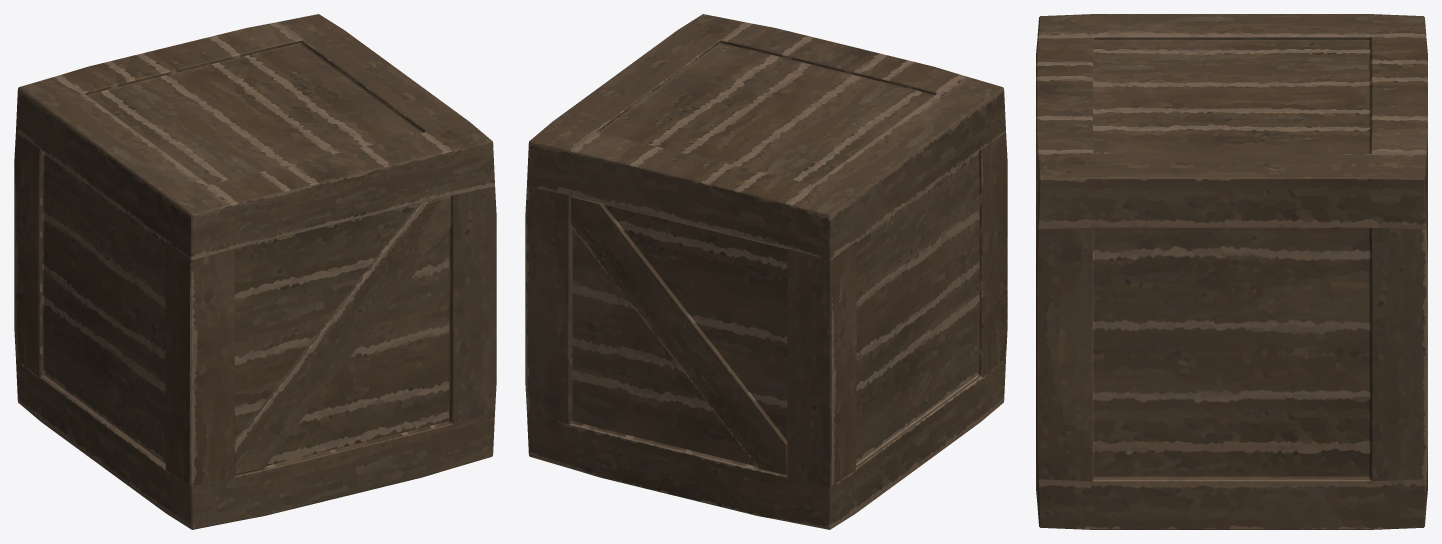
File: Caisse.fbx
3 renders of one model, left to right at view 1: azimuth 30°, elevation 25°; view 2: azimuth 150°, elevation 25°; view 3: azimuth 270°, elevation 25°, orthographic. The views are drawn at different scales.
Visible parts, largest first — view 1: Caisse; view 2: Caisse; view 3: Caisse.
Boxes of the visible parts, x1=… form: Caisse: x1=14, y1=14, x2=496, y2=529; Caisse: x1=525, y1=14, x2=1007, y2=529; Caisse: x1=1036, y1=14, x2=1427, y2=529.
Bounding box in the file's own units: 92.5 × 92.5 × 92.5.
